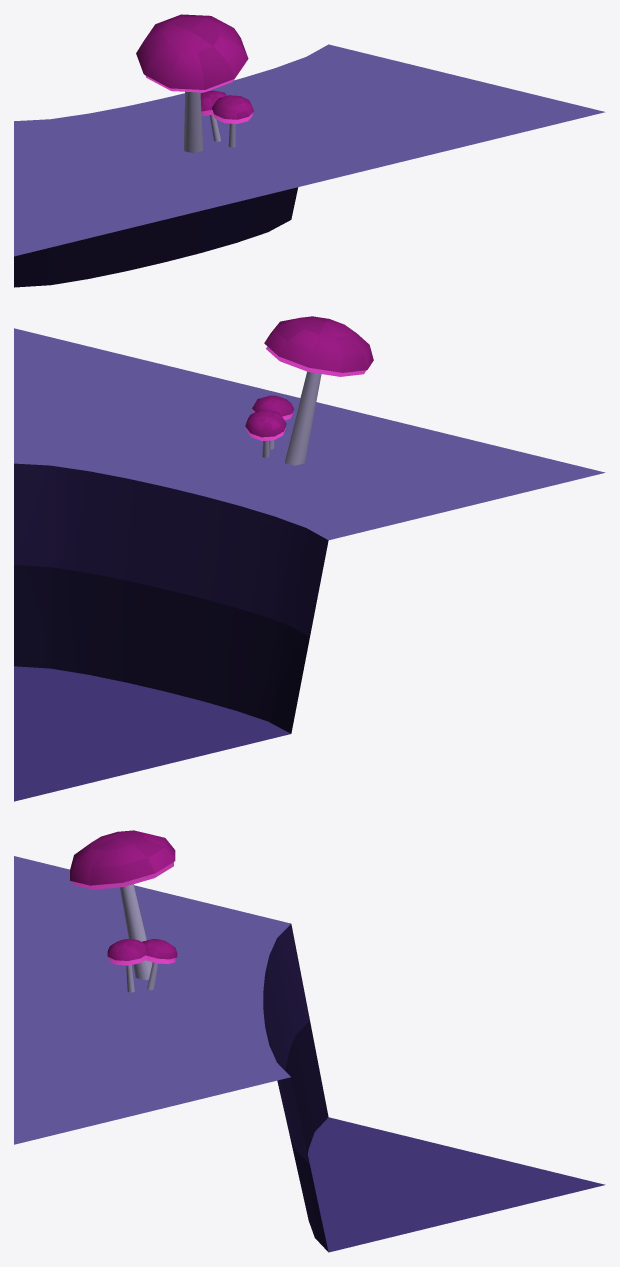
Rendered from MODULE_ALIEN_CLIFF_SIDE_2_SHROOMS.fbx.
3 renders of one model, top to bottom at view 1: azimuth 30°, elevation 25°; view 2: azimuth 150°, elevation 25°; view 3: azimuth 270°, elevation 25°, orthographic.
Visible parts, largest first — view 1: MODULE_ALIEN_CLIFF_SIDE_2_SHROOMS__export, MODULE_ALIEN_CLIFF_SIDE_2_SHROOMS_DECOR__export; view 2: MODULE_ALIEN_CLIFF_SIDE_2_SHROOMS__export, MODULE_ALIEN_CLIFF_SIDE_2_SHROOMS_DECOR__export; view 3: MODULE_ALIEN_CLIFF_SIDE_2_SHROOMS__export, MODULE_ALIEN_CLIFF_SIDE_2_SHROOMS_DECOR__export.
Part boxes in pixels (bbox=[...]): MODULE_ALIEN_CLIFF_SIDE_2_SHROOMS__export: bbox=[14, 44, 605, 287]; MODULE_ALIEN_CLIFF_SIDE_2_SHROOMS_DECOR__export: bbox=[136, 14, 253, 153]; MODULE_ALIEN_CLIFF_SIDE_2_SHROOMS__export: bbox=[14, 328, 605, 801]; MODULE_ALIEN_CLIFF_SIDE_2_SHROOMS_DECOR__export: bbox=[245, 316, 373, 465]; MODULE_ALIEN_CLIFF_SIDE_2_SHROOMS__export: bbox=[14, 856, 605, 1252]; MODULE_ALIEN_CLIFF_SIDE_2_SHROOMS_DECOR__export: bbox=[70, 830, 177, 992].
Bounding box in the file's own units: 100 × 51.3 × 86.6.
